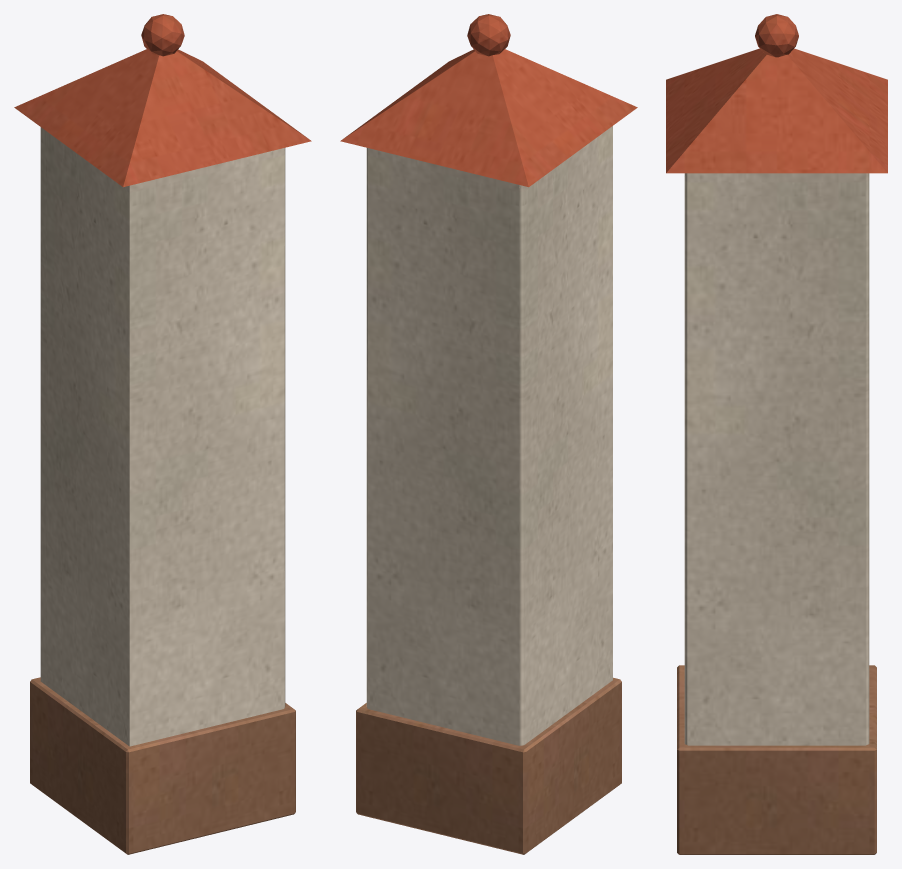
The model's file is g_pier.glb.
3 views of the same model, side by side, from view 1: azimuth 30°, elevation 25°; view 2: azimuth 150°, elevation 25°; view 3: azimuth 270°, elevation 25° (orthographic).
Parts seen in each view (by area): view 1: g_pier_render, g_pier_plinth, g_pier_tile_clay; view 2: g_pier_render, g_pier_plinth, g_pier_tile_clay; view 3: g_pier_render, g_pier_tile_clay, g_pier_plinth.
Boxes of the visible parts, bbox=[...] form: g_pier_render: bbox=[40, 127, 285, 746]; g_pier_plinth: bbox=[30, 677, 295, 854]; g_pier_tile_clay: bbox=[14, 14, 311, 187]; g_pier_render: bbox=[366, 126, 612, 745]; g_pier_plinth: bbox=[356, 677, 621, 854]; g_pier_tile_clay: bbox=[340, 14, 637, 187]; g_pier_render: bbox=[684, 173, 869, 745]; g_pier_tile_clay: bbox=[666, 14, 887, 173]; g_pier_plinth: bbox=[677, 665, 876, 854].
Bounding box in the file's own units: 0.6 × 2.38 × 0.6.
3 materials, 3 textured.
